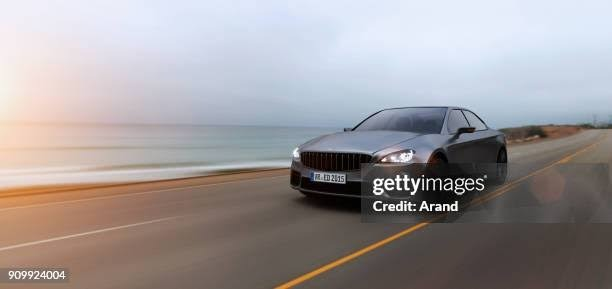car: (282, 106, 528, 211)
